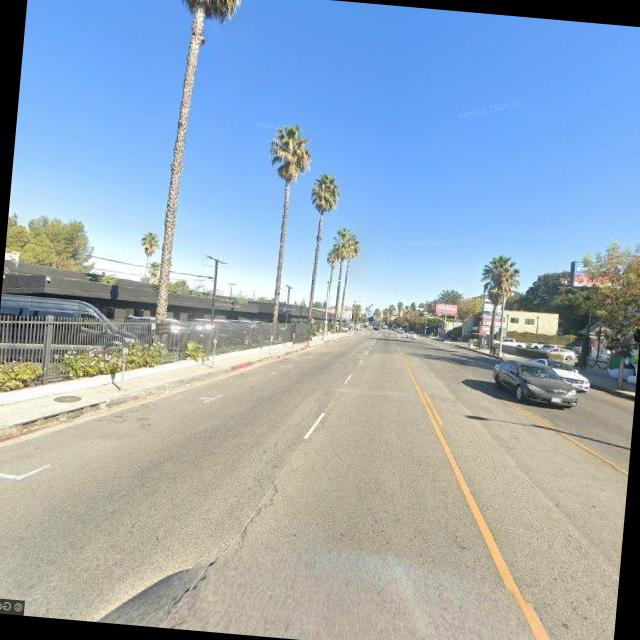pothole: (168, 448, 289, 618)
